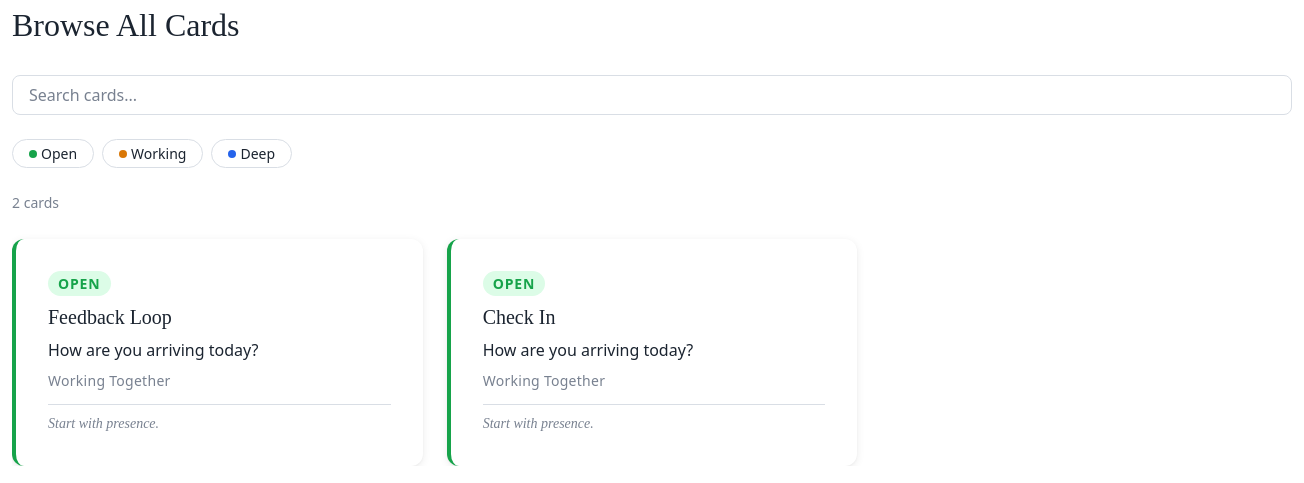
Test case: US-013: BrowseAllCards text search › no-results message › displays a no-results message when search matches nothing
Type "zzzzxyz" into the search field.
click(652, 95); type("zzzzxyz")  # box [12,75,1292,115]
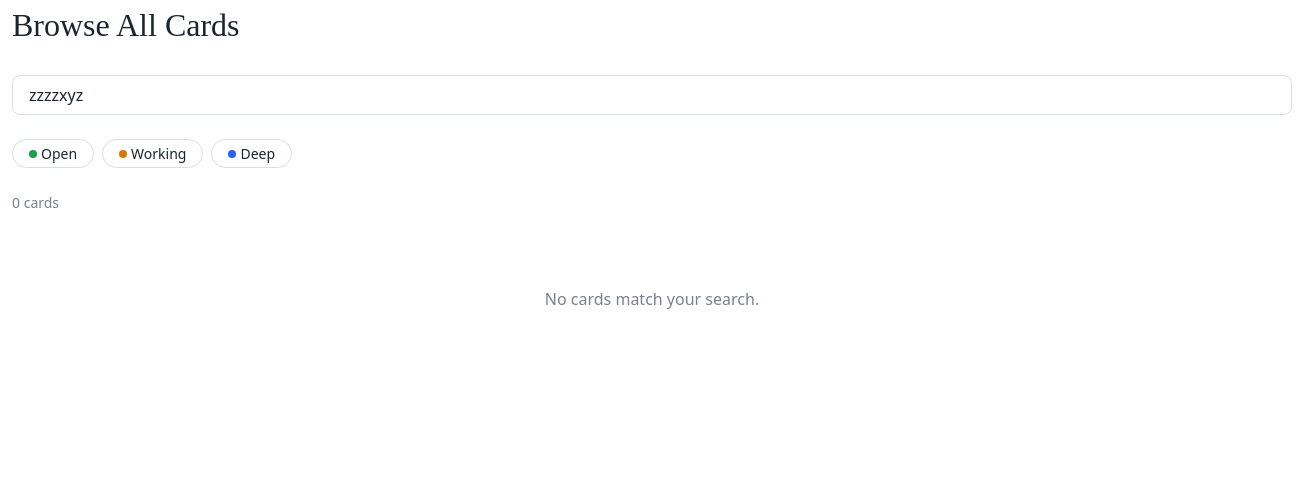
Check: the text "No cards match your search." is shown, box [545,288,759,310]
